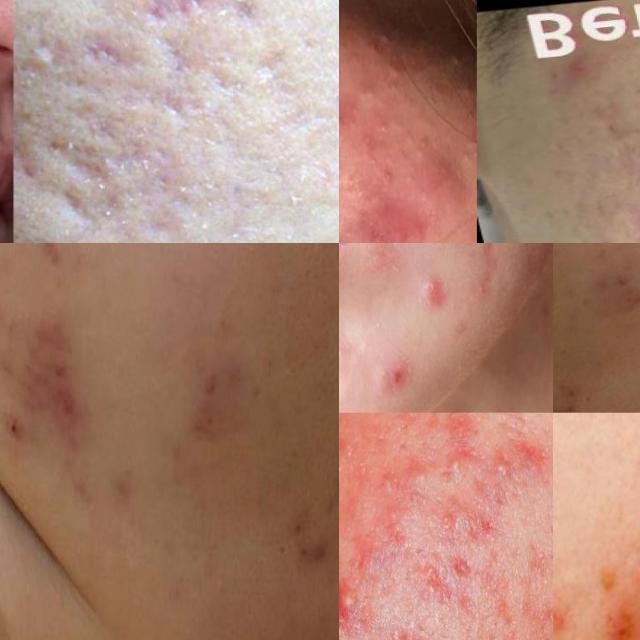acne_scars: (466, 413, 553, 527), (362, 436, 443, 532), (39, 326, 87, 450), (460, 243, 521, 321), (184, 364, 234, 453), (404, 542, 458, 620), (282, 501, 338, 576), (344, 601, 447, 640), (587, 578, 640, 640), (45, 140, 112, 189), (78, 39, 139, 86), (599, 257, 640, 326), (442, 537, 486, 596), (142, 2, 206, 41), (159, 91, 208, 130), (553, 371, 592, 413), (331, 463, 339, 582), (14, 122, 29, 168)
comedone: (18, 44, 64, 86), (208, 564, 238, 612), (339, 452, 355, 494), (626, 375, 640, 412), (0, 355, 6, 407)
papule: (405, 265, 452, 333), (546, 45, 598, 92)
pustule: (432, 436, 480, 495), (339, 568, 367, 638)
